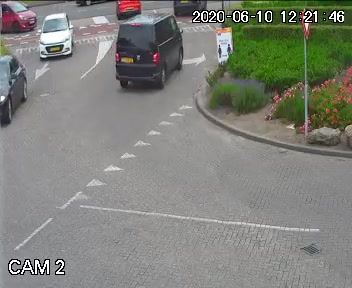car: (117, 8, 181, 97), (37, 12, 77, 68), (0, 51, 28, 127), (0, 0, 33, 32), (173, 0, 207, 16), (108, 2, 144, 16)
